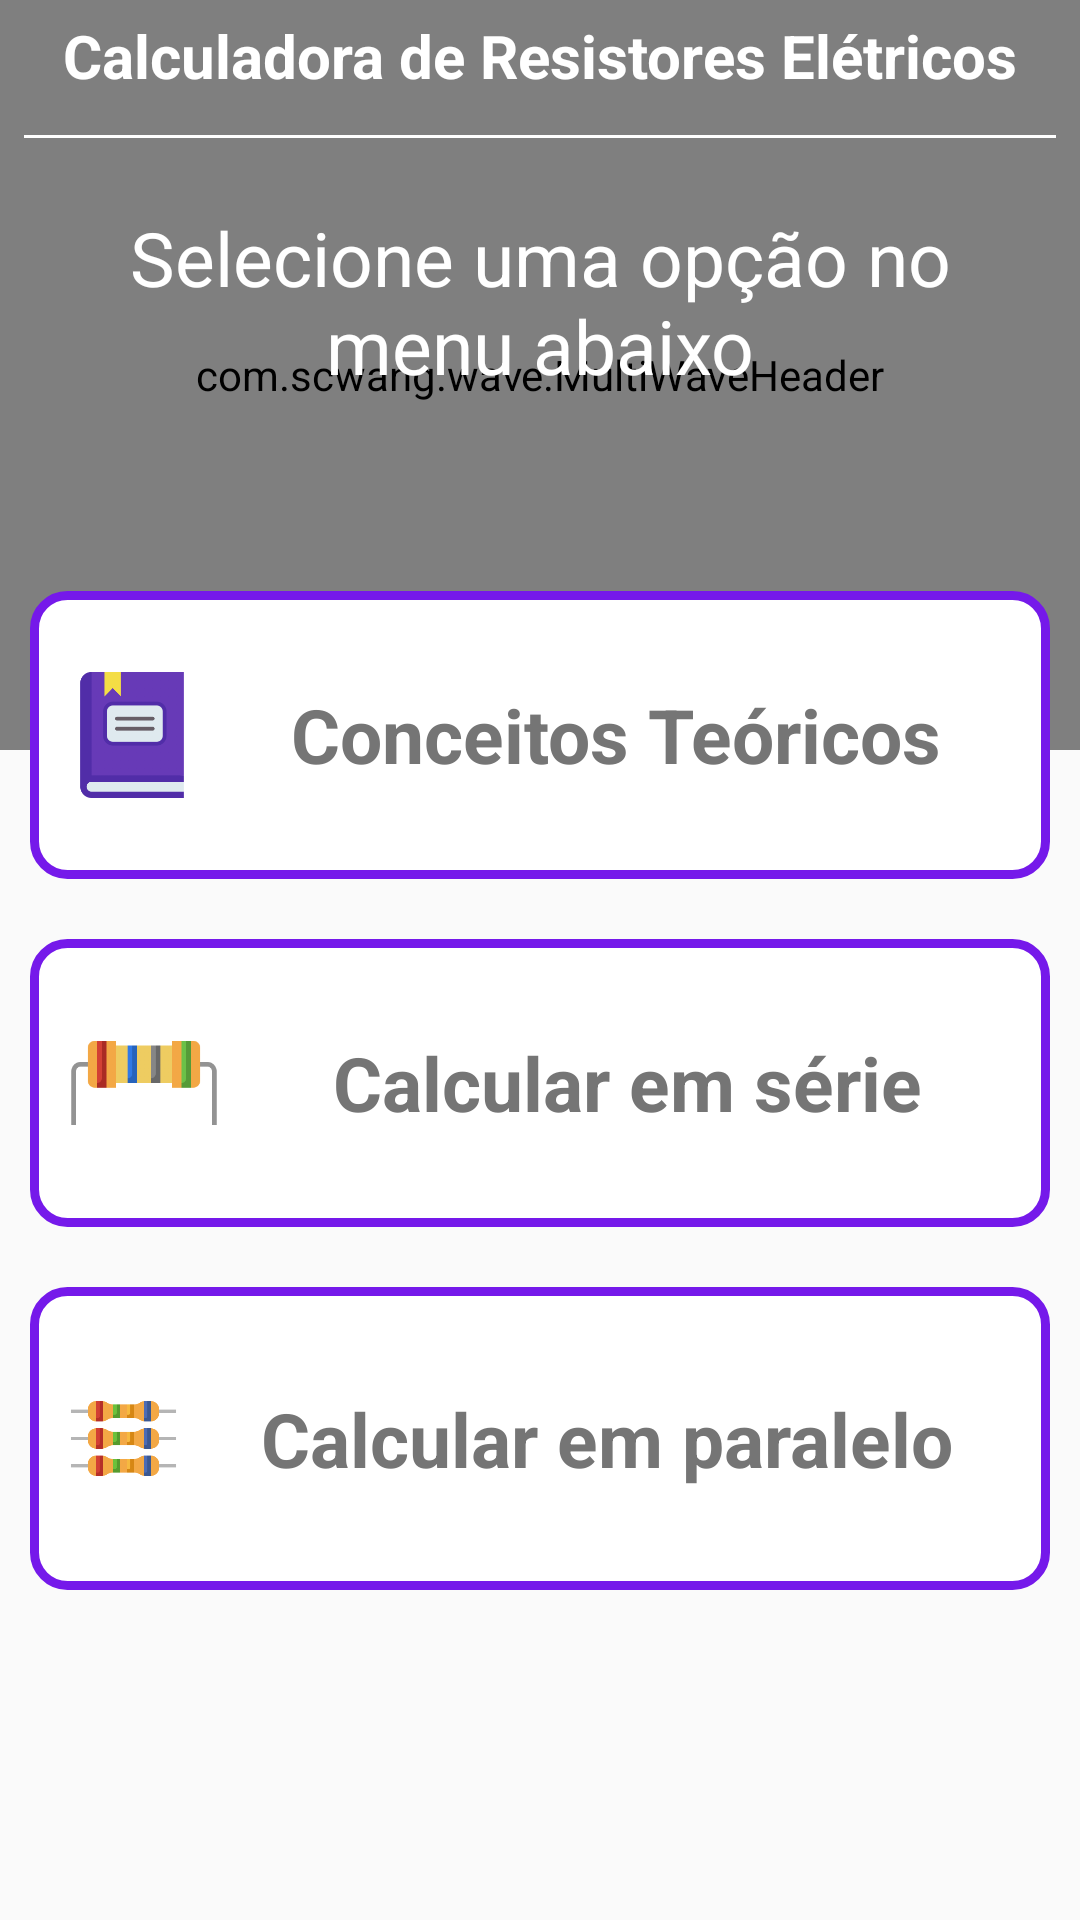

Named icons in this screenshot (1080 x 1920) and their centers, (x=x, y=y):
livro: (x=132, y=735)
resistor: (x=144, y=1083)
resistor paralelo: (x=123, y=1438)
